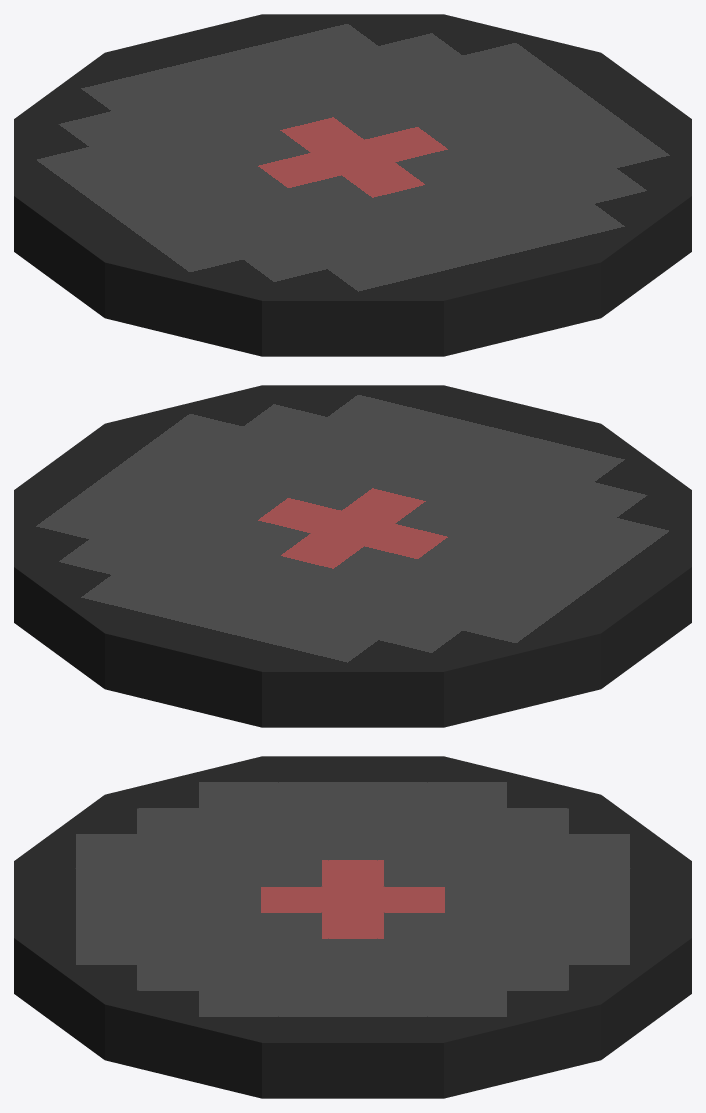
Rendered from Target.fbx.
The picture shows the model from 3 angles, top to bottom: view 1: azimuth 30°, elevation 25°; view 2: azimuth 150°, elevation 25°; view 3: azimuth 270°, elevation 25°; orthographic projection.
Parts seen in each view (by area): view 1: cylinder; view 2: cylinder; view 3: cylinder.
Part boxes in pixels (left/top/right/bottom): cylinder: left=14, top=14, right=691, bottom=356; cylinder: left=14, top=385, right=691, bottom=727; cylinder: left=14, top=756, right=691, bottom=1098.
Bounding box in the file's own units: 68.75 × 6.25 × 68.75.
Materials: 1 (1 with a texture image).
